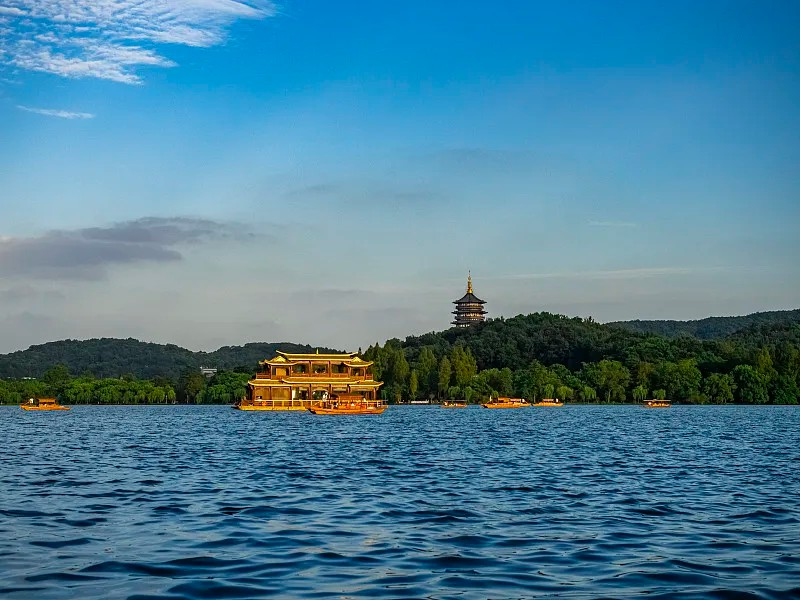Leifeng: (451, 271, 488, 330)
